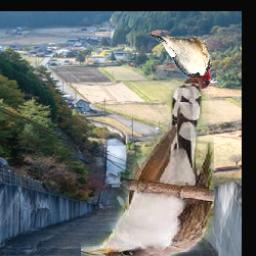Cuckoo: (81, 78, 214, 256)
Woodpecker: (150, 34, 221, 89)
